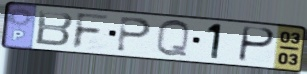1: (203, 22, 224, 62)
B: (34, 8, 76, 48)
F: (70, 11, 113, 51)
P: (236, 25, 277, 64), (115, 15, 154, 54)
Q: (154, 18, 192, 59)
